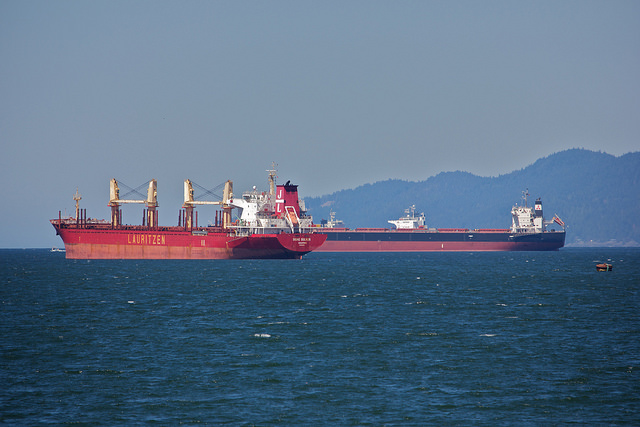bulk carrier: (53, 175, 333, 259), (320, 206, 568, 251)
